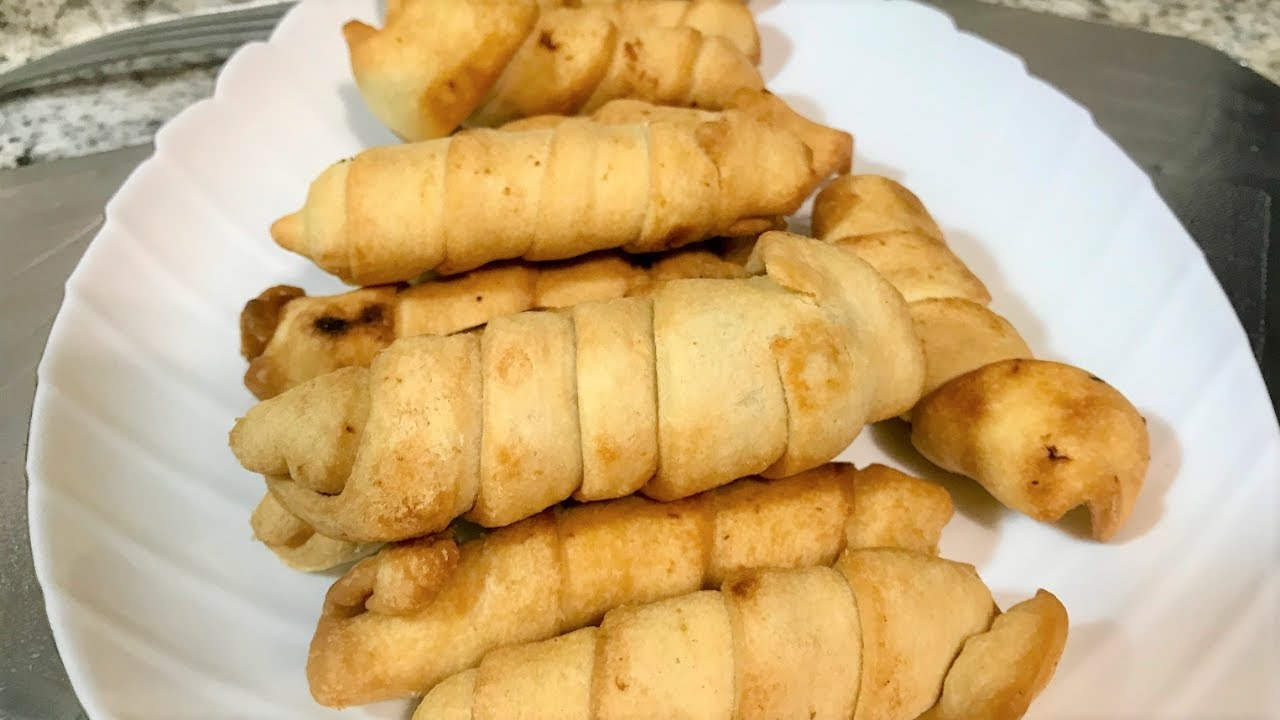pisang_molen: (225, 232, 926, 546), (266, 117, 823, 285)
